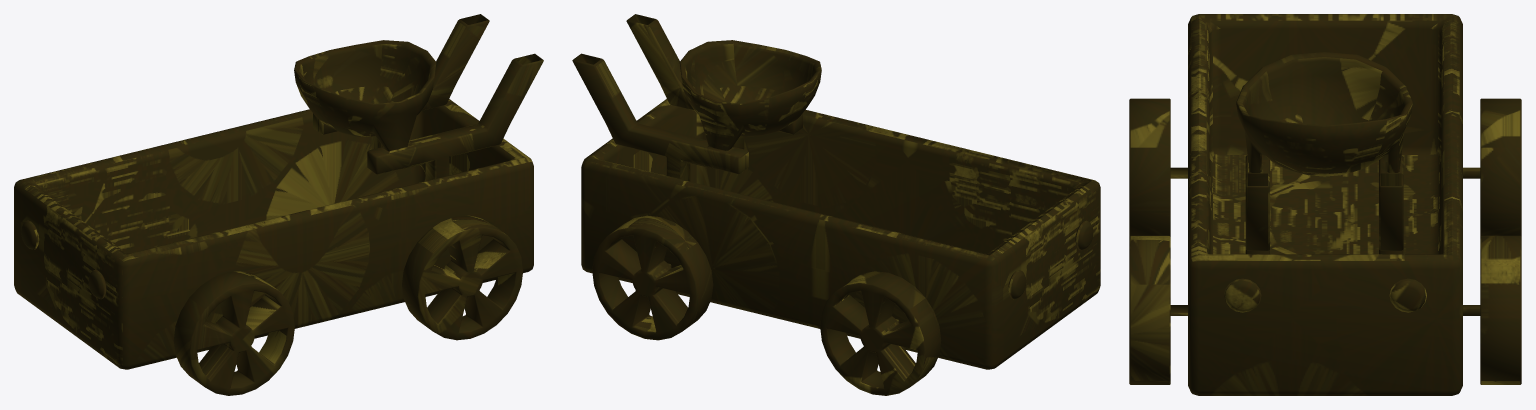
File: BenCarNoAnim.fbx
3 views of the same model, side by side, from view 1: azimuth 30°, elevation 25°; view 2: azimuth 150°, elevation 25°; view 3: azimuth 270°, elevation 25° (orthographic). The views are drawn at different scales.
Visible parts, largest first — view 1: Carro; view 2: Carro; view 3: Carro.
Part boxes in pixels (<box>): Carro: <box>14,14,543,395</box>; Carro: <box>572,14,1100,395</box>; Carro: <box>1129,14,1521,395</box>.
Size of the model in its own units: 2.86 by 1.75 by 1.34.
